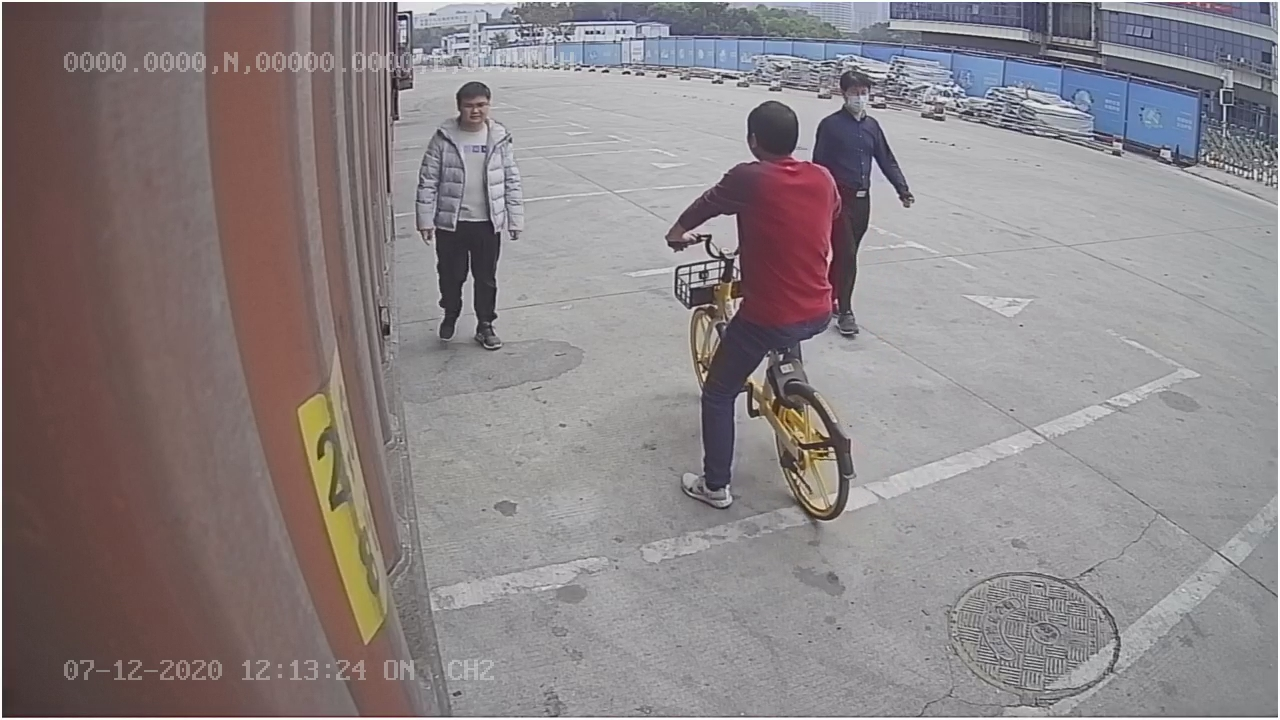person: (417, 81, 525, 352)
